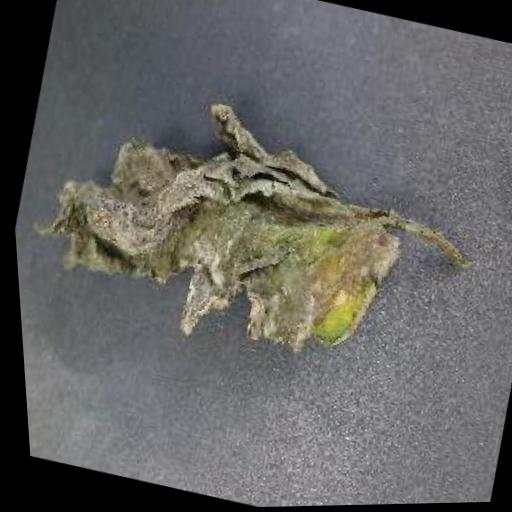Late Blight: (9, 63, 432, 381)
